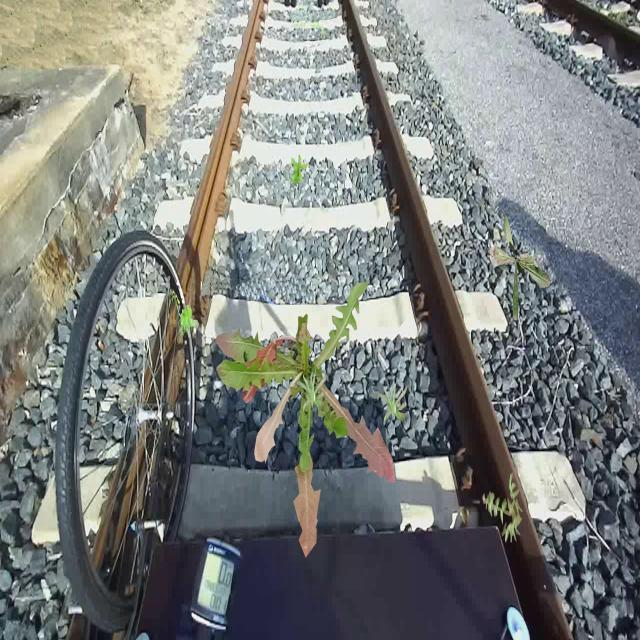Plant: (215, 281, 395, 559), (488, 209, 552, 321), (482, 472, 524, 544), (375, 379, 408, 425), (294, 367, 326, 413), (178, 305, 198, 338), (291, 155, 308, 187)
